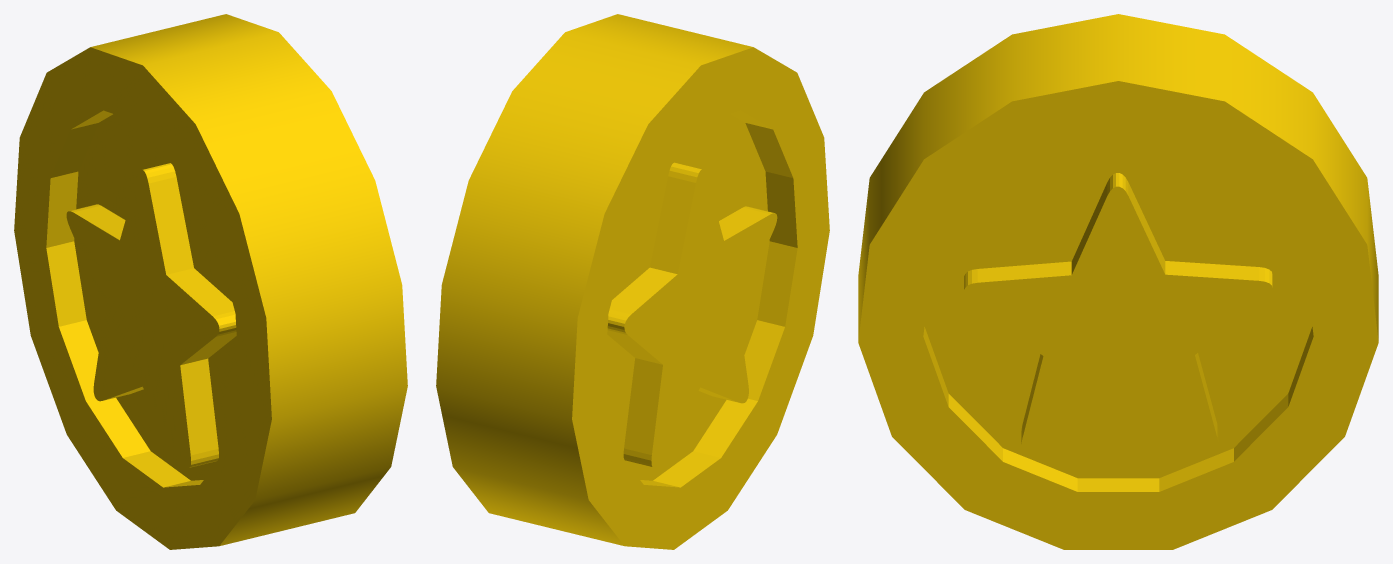
Rendered from coin.FBX.
3 views of the same model, side by side, from view 1: azimuth 30°, elevation 25°; view 2: azimuth 150°, elevation 25°; view 3: azimuth 270°, elevation 25° (orthographic).
Visible parts, largest first — view 1: Cylinder004, Star004; view 2: Cylinder004, Star004; view 3: Cylinder004, Star003.
Boxes of the visible parts, x1,y1,x2,y2 form: Cylinder004: [14, 14, 407, 549]; Star004: [66, 163, 236, 467]; Cylinder004: [436, 14, 829, 549]; Star004: [607, 162, 777, 467]; Cylinder004: [858, 14, 1378, 549]; Star003: [964, 173, 1272, 453].
Bounding box in the file's own units: 1.35 × 4.39 × 4.42.
